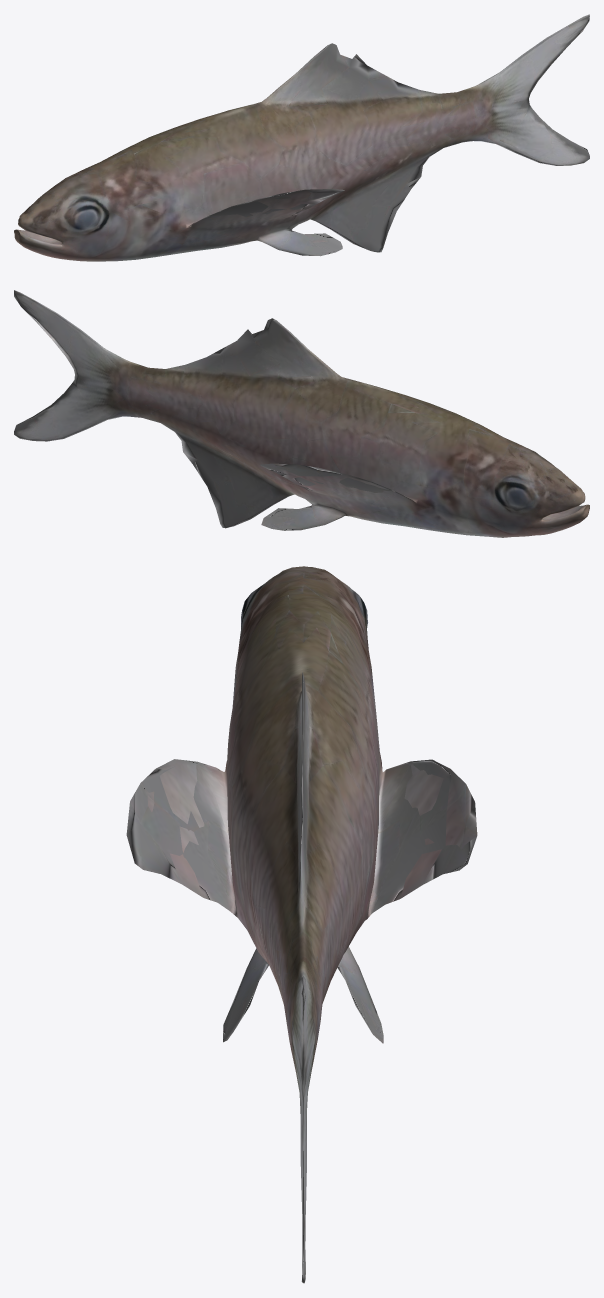
The model's file is fish.glb.
3 renders of one model, top to bottom at view 1: azimuth 30°, elevation 25°; view 2: azimuth 150°, elevation 25°; view 3: azimuth 270°, elevation 25°, orthographic. The views are drawn at different scales.
Parts seen in each view (by area): view 1: geometry_0; view 2: geometry_0; view 3: geometry_0.
Boxes of the visible parts, x1,y1,x2,y2 form: geometry_0: (14, 14, 589, 261); geometry_0: (14, 290, 589, 537); geometry_0: (126, 566, 477, 1283).
Bounding box in the file's own units: 1 × 0.3698 × 0.2655.
Materials: 1 (1 with a texture image).
